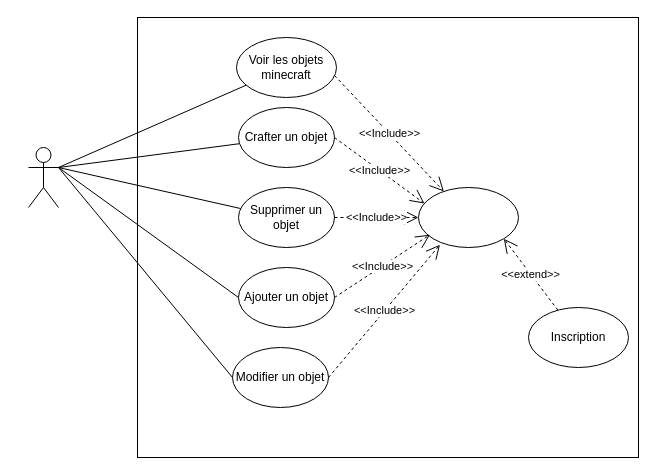
This 656x475 diagram has some shape labels left out. The shapes that lost their labels are listed below. From the top down, each one's centre as x and y in pixels, then its label:
(43,177): Utilisateur
(468,217): Connecter
